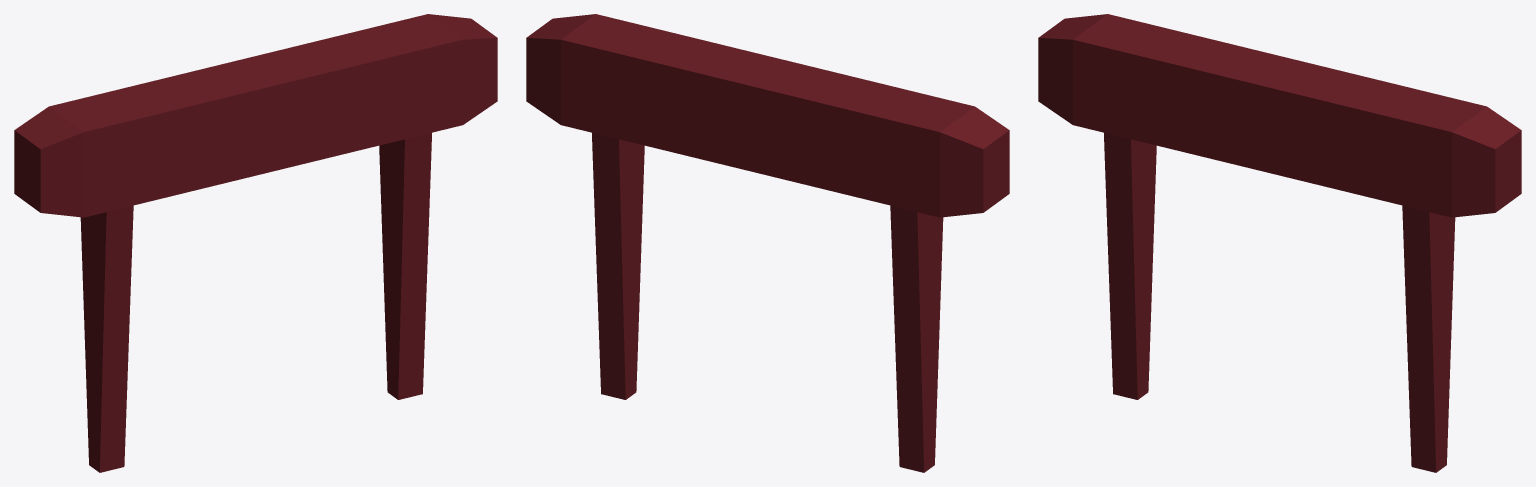
File: Cerca.fbx
3 renders of one model, left to right at view 1: azimuth 30°, elevation 25°; view 2: azimuth 150°, elevation 25°; view 3: azimuth 330°, elevation 25°, orthographic.
Visible parts, largest first — view 1: Cerca; view 2: Cerca; view 3: Cerca.
Part boxes in pixels (x1,y1,x2,y2): Cerca: (14,14,497,472); Cerca: (526,14,1009,472); Cerca: (1038,14,1521,472).
Size of the model in its own units: 1.04 by 0.7739 by 0.1381.
